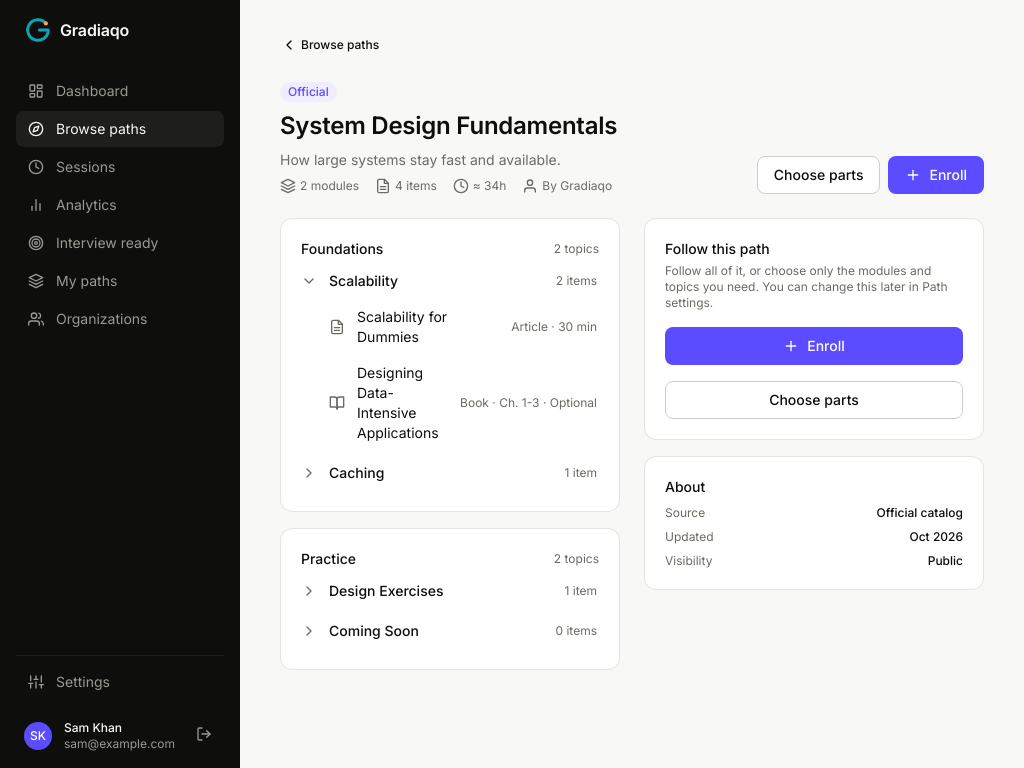
Scenario: PathPreviewPage › says why enrolling failed
Click the button "Enroll" below "Follow this path".
click(814, 346)  # box x1=665 y1=327 x2=963 y2=365
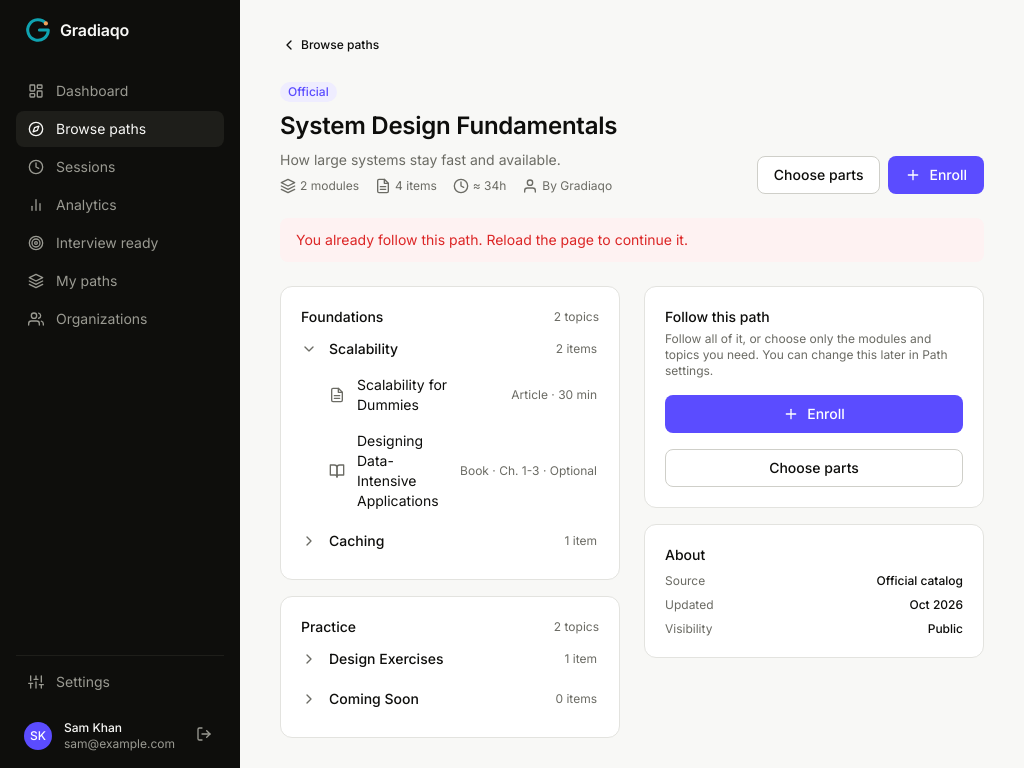
expect the button "Enroll" next to "Article · 30 min" is enabled: met, box x1=665 y1=395 x2=963 y2=433
expect the message shows "You already follow this path.": met, box x1=296 y1=231 x2=688 y2=248
Note: In the dialog too.
Click the button "Choose parts" next to "By Gradiaqo".
click(819, 175)  # box x1=757 y1=156 x2=880 y2=194
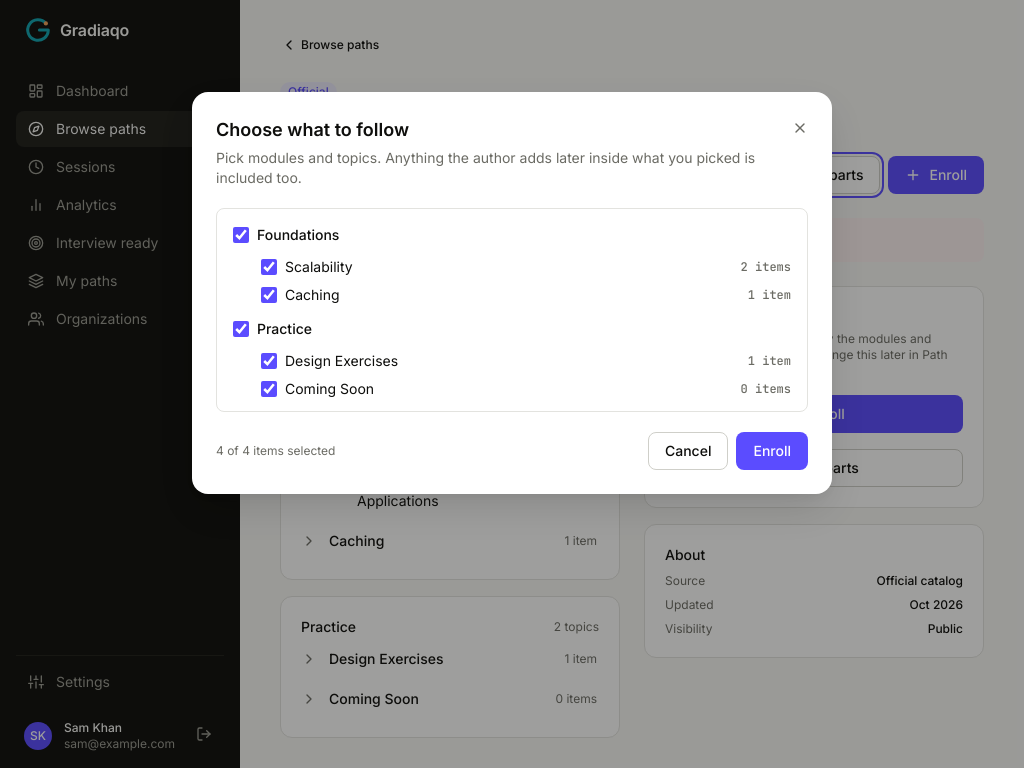
Click the button "Enroll".
click(772, 451)  # box x1=736 y1=432 x2=808 y2=470
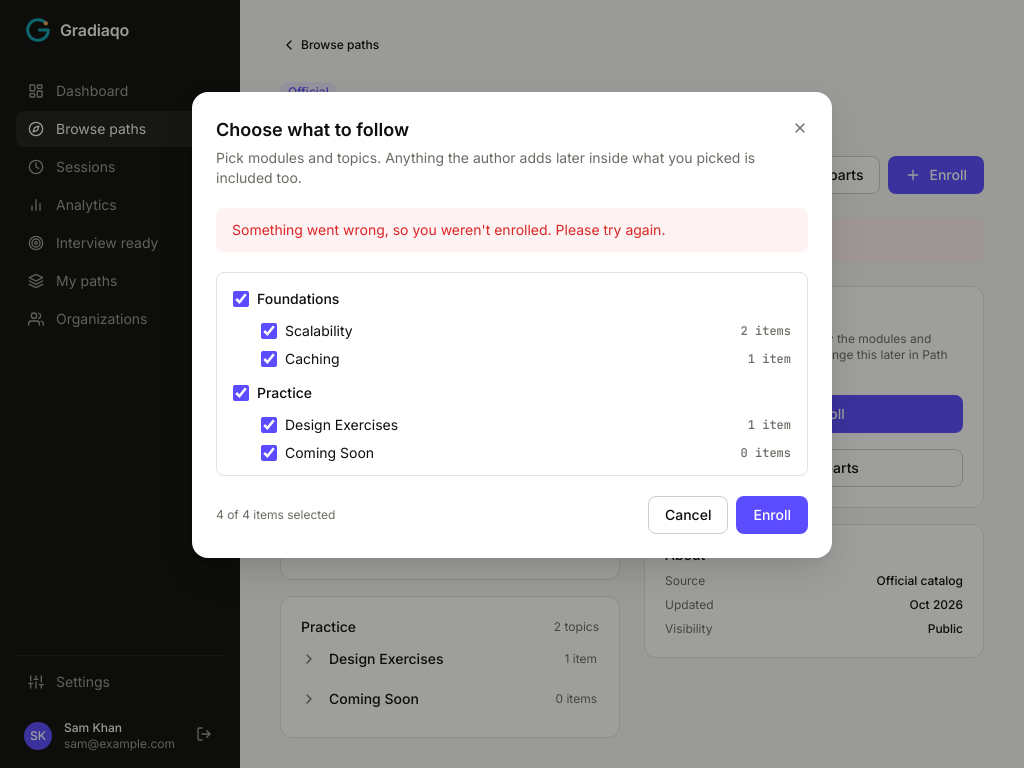
expect the message "Something went wrong, so you weren't enrolled. Please try again." is shown: met, box x1=216 y1=208 x2=808 y2=252
Click the button "Enroll".
click(772, 515)  # box x1=736 y1=496 x2=808 y2=534
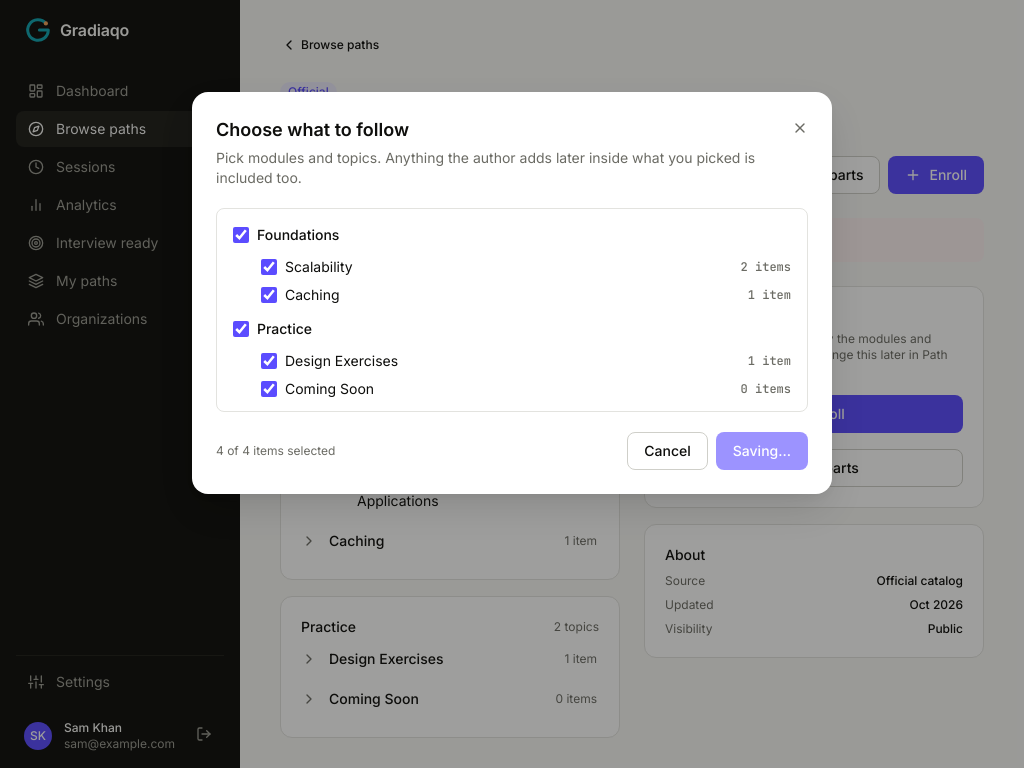
expect the button "Saving…" is disabled: met, box x1=716 y1=432 x2=808 y2=470
